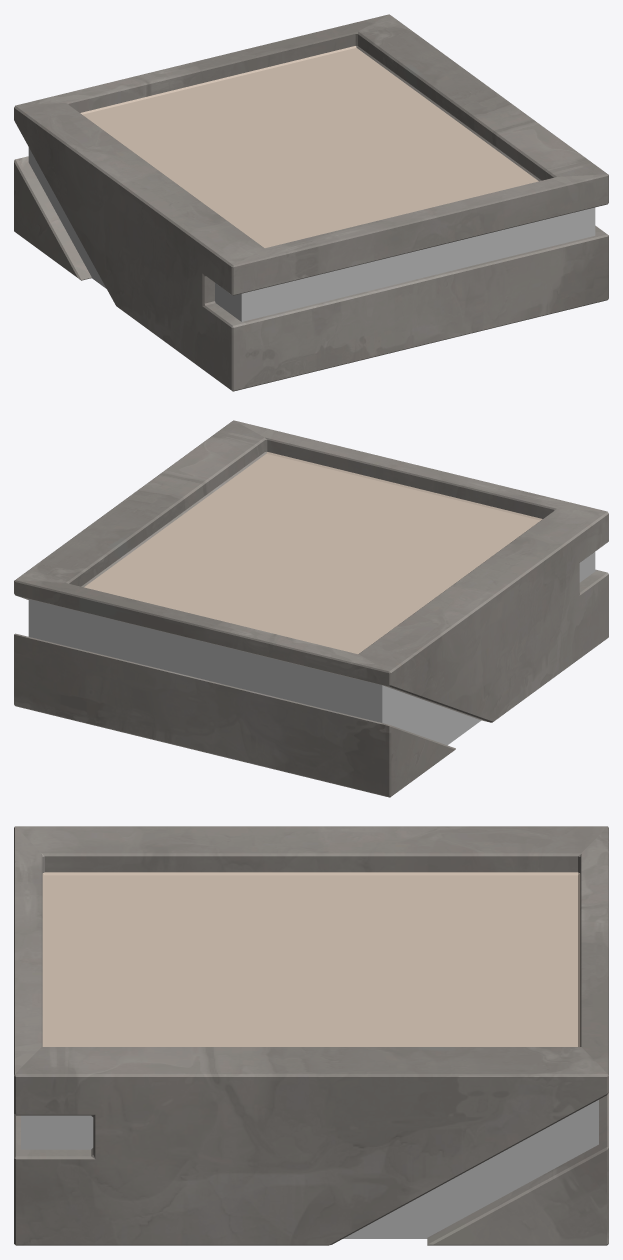
Rendered from MESH_CoverProp_LargePlantPot.fbx.
3 renders of one model, top to bottom at view 1: azimuth 30°, elevation 25°; view 2: azimuth 150°, elevation 25°; view 3: azimuth 270°, elevation 25°, orthographic. The views are drawn at different scales.
Visible parts, largest first — view 1: Cube.001, Cube.003, Cube.005; view 2: Cube.001, Cube.005; view 3: Cube.001, Cube.005, Cube.003.
Part boxes in pixels (left/top/right/bottom): Cube.001: left=14, top=14, right=608, bottom=391; Cube.003: left=215, top=207, right=595, bottom=321; Cube.005: left=28, top=147, right=106, bottom=288; Cube.001: left=14, top=420, right=608, bottom=797; Cube.005: left=28, top=599, right=481, bottom=745; Cube.001: left=14, top=826, right=608, bottom=1245; Cube.005: left=343, top=1100, right=598, bottom=1238; Cube.003: left=21, top=1115, right=93, bottom=1149.
Bounding box in the file's own units: 364 × 116 × 366.
